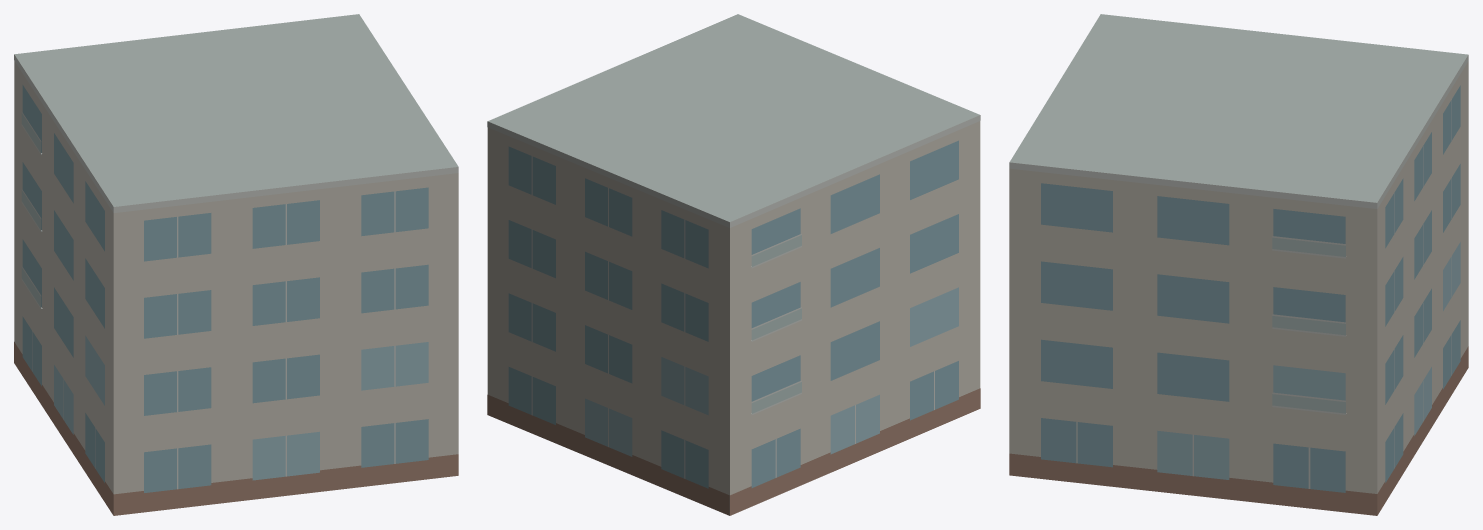
Rendered from survey-upis-32956979.glb.
The picture shows the model from 3 angles, left to right: view 1: azimuth 30°, elevation 25°; view 2: azimuth 150°, elevation 25°; view 3: azimuth 270°, elevation 25°; orthographic projection. The views are drawn at different scales.
Parts seen in each view (by area): view 1: survey-upis-32956979.tmp; view 2: survey-upis-32956979.tmp; view 3: survey-upis-32956979.tmp.
Boxes of the visible parts, x1,y1,x2,y2 form: survey-upis-32956979.tmp: (14, 14, 458, 515); survey-upis-32956979.tmp: (487, 14, 980, 515); survey-upis-32956979.tmp: (1009, 14, 1468, 515).
Bounding box in the file's own units: 15.8 × 12.2 × 16.23.
